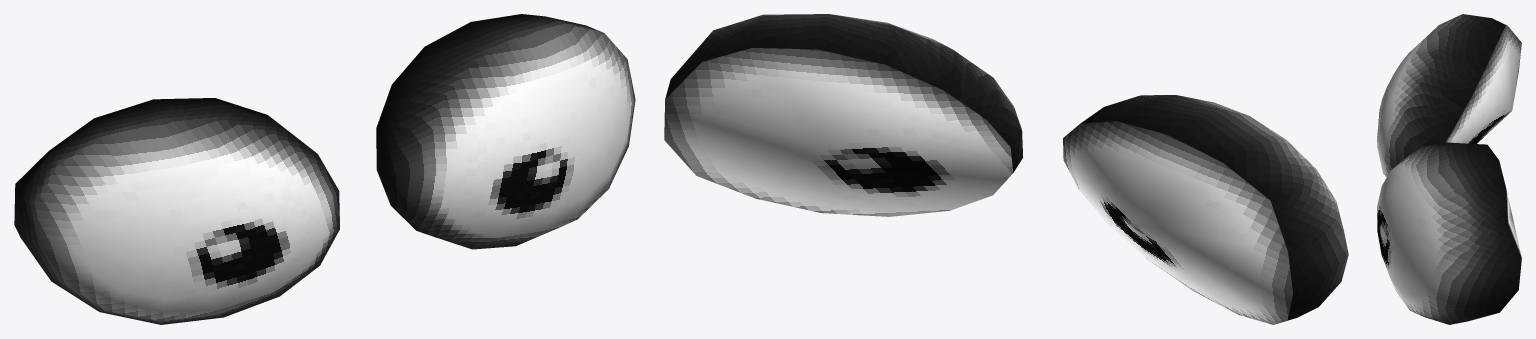
The model's file is m_e_join.FBX.
3 views of the same model, side by side, from view 1: azimuth 30°, elevation 25°; view 2: azimuth 150°, elevation 25°; view 3: azimuth 270°, elevation 25° (orthographic). The views are drawn at different scales.
Parts seen in each view (by area): view 1: Object01; view 2: Object01; view 3: Object01.
Part boxes in pixels (x1=…): Object01: x1=14, y1=14, x2=635, y2=324; Object01: x1=664, y1=14, x2=1348, y2=324; Object01: x1=1377, y1=14, x2=1521, y2=324.
Bounding box in the file's own units: 5.71 × 1.7 × 1.54.
